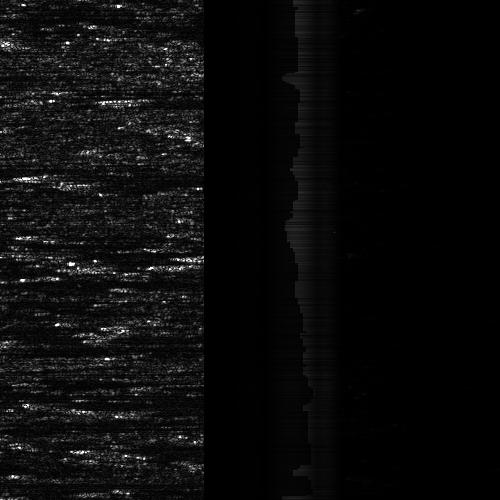rock: (19, 167, 82, 188), (0, 274, 63, 291), (0, 491, 69, 500), (105, 97, 168, 104)
shadow: (0, 274, 151, 291), (51, 167, 138, 188), (7, 491, 183, 500), (0, 475, 99, 488), (137, 97, 224, 104)
